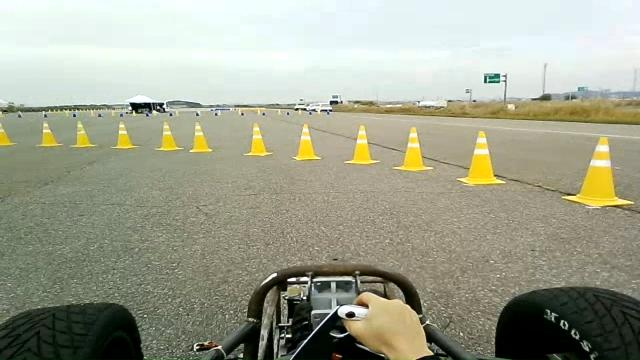yellow cone: (561, 136, 634, 207), (456, 130, 506, 185), (392, 126, 433, 172), (344, 124, 379, 164), (291, 124, 321, 160), (243, 122, 273, 156), (154, 120, 184, 150), (110, 120, 138, 149), (70, 120, 98, 147), (188, 121, 212, 152), (35, 121, 62, 146), (0, 122, 17, 146)
